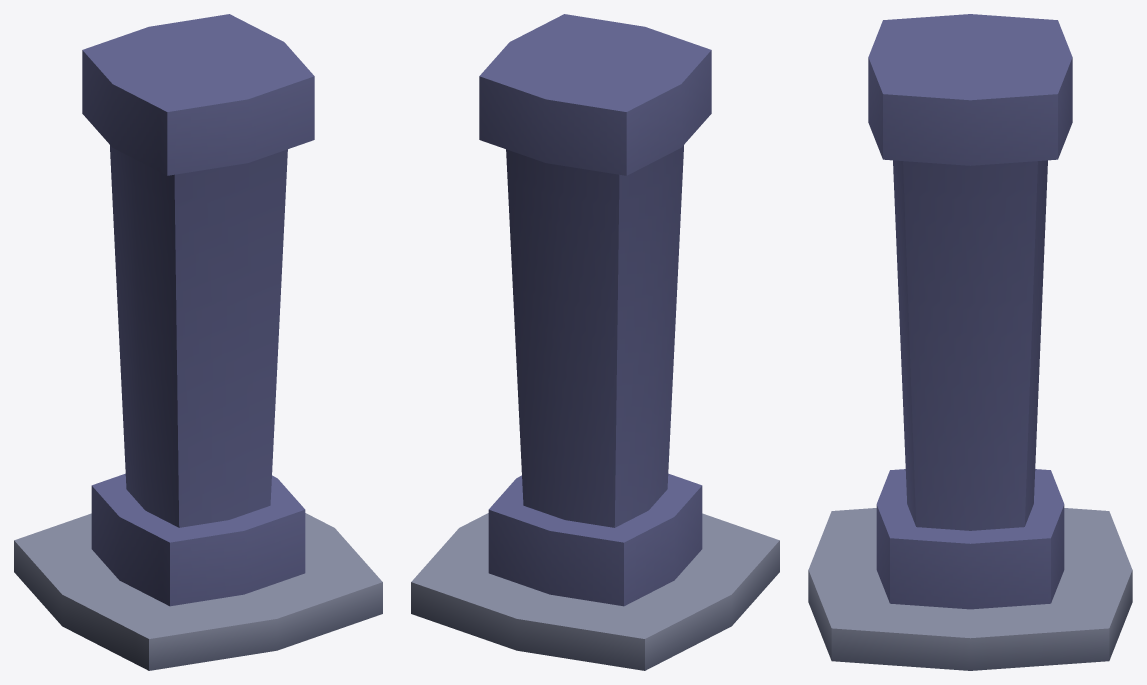
Rendered from template-detail.glb.
3 renders of one model, left to right at view 1: azimuth 30°, elevation 25°; view 2: azimuth 150°, elevation 25°; view 3: azimuth 270°, elevation 25°, orthographic. The views are drawn at different scales.
Parts seen in each view (by area): view 1: template-detail; view 2: template-detail; view 3: template-detail.
Part boxes in pixels (<box>): template-detail: <box>14,14,382,670</box>; template-detail: <box>411,14,779,670</box>; template-detail: <box>808,14,1132,670</box>.
Size of the model in its own units: 1.79 by 3.33 by 1.79.
Materials: 1 (1 with a texture image).
